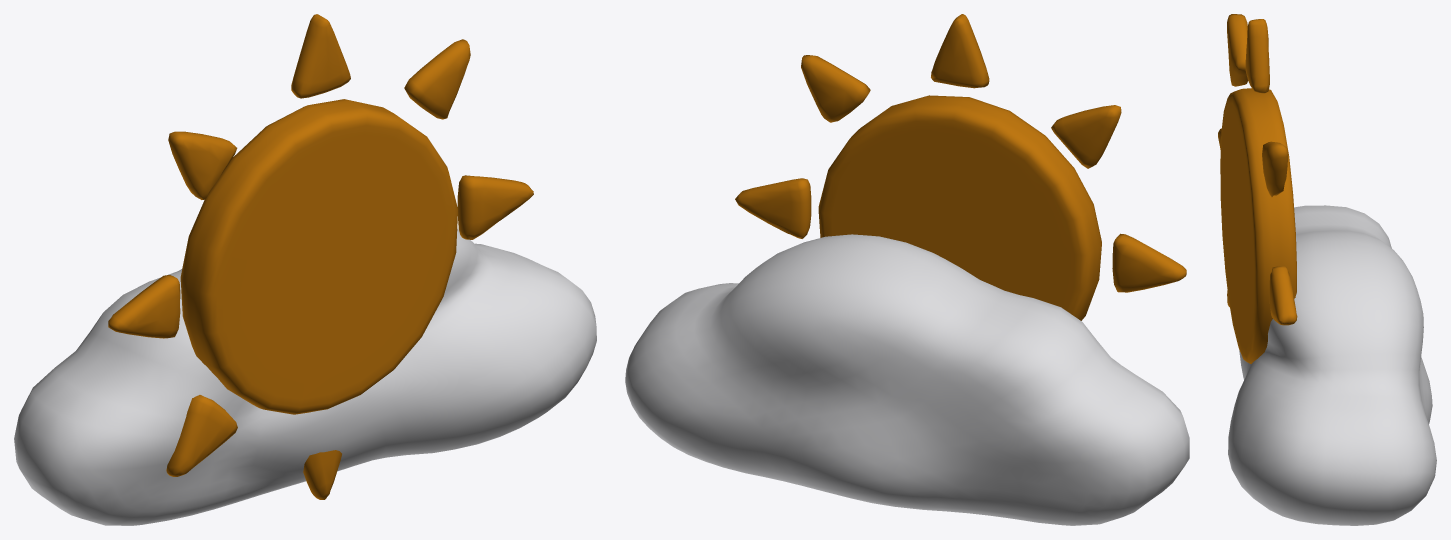
File: cloudy.FBX
The picture shows the model from 3 angles, left to right: view 1: azimuth 30°, elevation 25°; view 2: azimuth 150°, elevation 25°; view 3: azimuth 270°, elevation 25°; orthographic projection. The views are drawn at different scales.
Visible parts, largest first — view 1: Group26308, Group11584, ZBrush_defualt_group, Group2, Group4, Group5, Group3, Group1, Group6; view 2: Group26308, Group11584, ZBrush_defualt_group, Group4, Group2, Group3, Group1; view 3: Group26308, Group11584, Group2, ZBrush_defualt_group, Group1, Group3.
Boxes of the visible parts, box(x1,y1,x2,y2) form: Group26308: box(14, 229, 596, 525); Group11584: box(180, 99, 457, 414); ZBrush_defualt_group: box(457, 175, 533, 239); Group2: box(291, 14, 350, 98); Group4: box(108, 275, 180, 338); Group5: box(166, 395, 237, 476); Group3: box(404, 39, 470, 119); Group1: box(168, 131, 237, 199); Group6: box(303, 450, 341, 499); Group26308: box(625, 234, 1189, 525); Group11584: box(818, 95, 1101, 320); ZBrush_defualt_group: box(735, 178, 811, 238); Group4: box(1112, 233, 1186, 292); Group2: box(931, 14, 989, 88); Group3: box(801, 55, 870, 122); Group1: box(1051, 105, 1121, 168); Group26308: box(1228, 205, 1436, 525); Group11584: box(1220, 88, 1296, 363); Group2: box(1245, 19, 1269, 93); ZBrush_defualt_group: box(1269, 265, 1297, 325); Group1: box(1227, 14, 1247, 86); Group3: box(1262, 141, 1288, 196).
Size of the model in its own units: 24.53 by 20.3 by 9.57.
